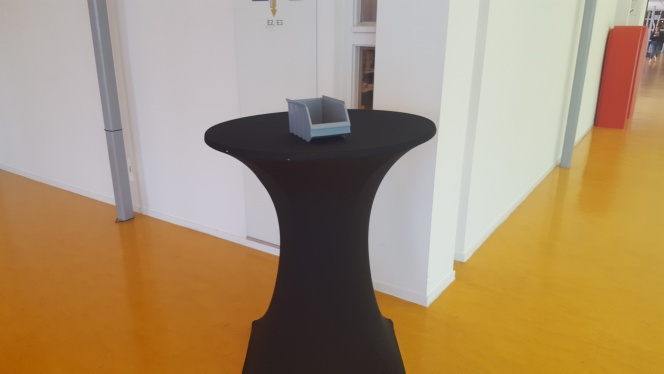tray_front: (304, 97, 352, 140)
